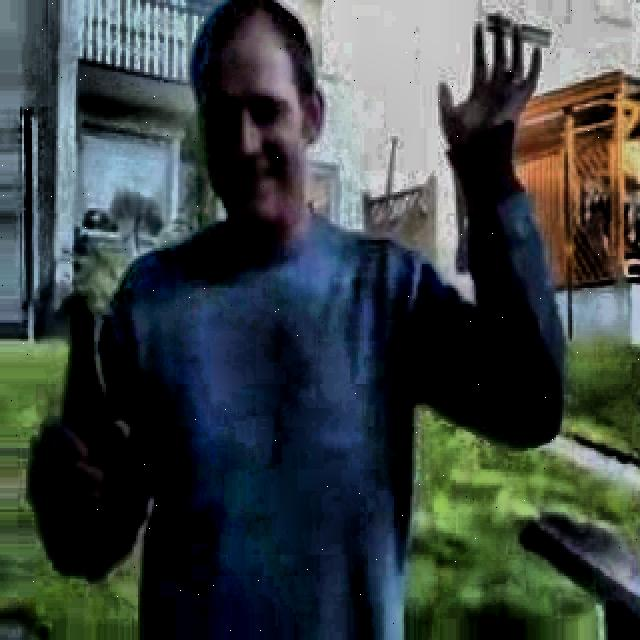L: (29, 4, 566, 636)
